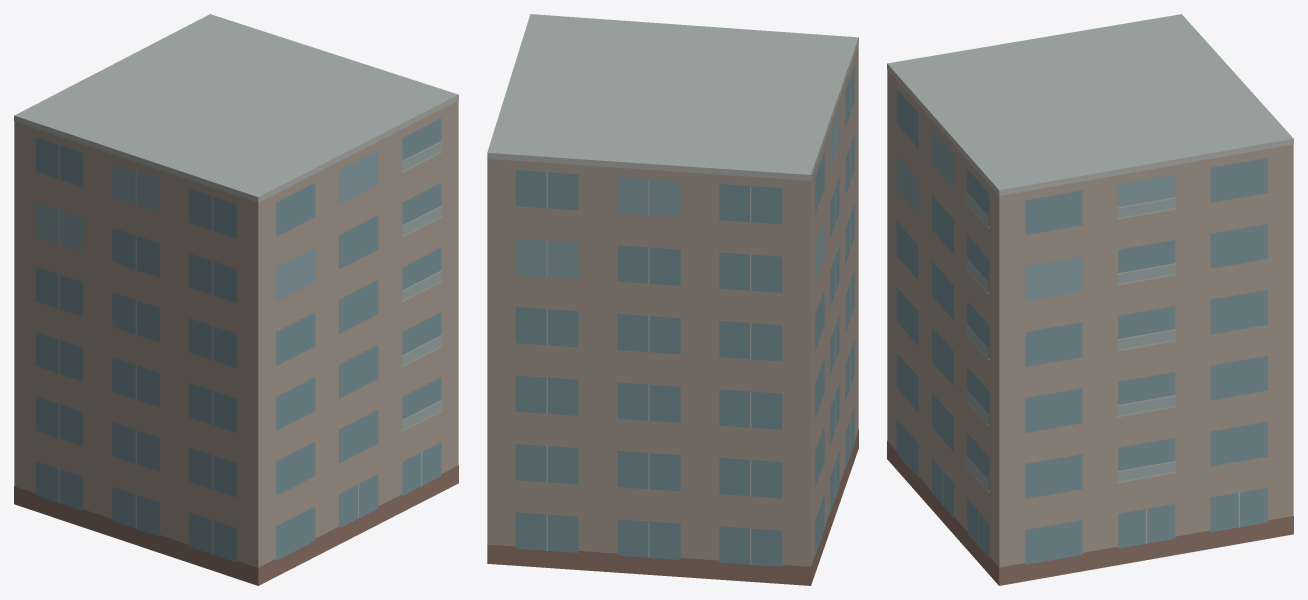
Rendered from survey-upis-32844776.glb.
The picture shows the model from 3 angles, left to right: view 1: azimuth 30°, elevation 25°; view 2: azimuth 150°, elevation 25°; view 3: azimuth 270°, elevation 25°; orthographic projection. The views are drawn at different scales.
Visible parts, largest first — view 1: survey-upis-32844776.tmp; view 2: survey-upis-32844776.tmp; view 3: survey-upis-32844776.tmp.
Part boxes in pixels (box(x1,y1,x2,y2)): survey-upis-32844776.tmp: box(14, 14, 458, 585); survey-upis-32844776.tmp: box(487, 14, 858, 585); survey-upis-32844776.tmp: box(887, 14, 1293, 585).
Size of the model in its own units: 16.31 by 17.05 by 15.9.
